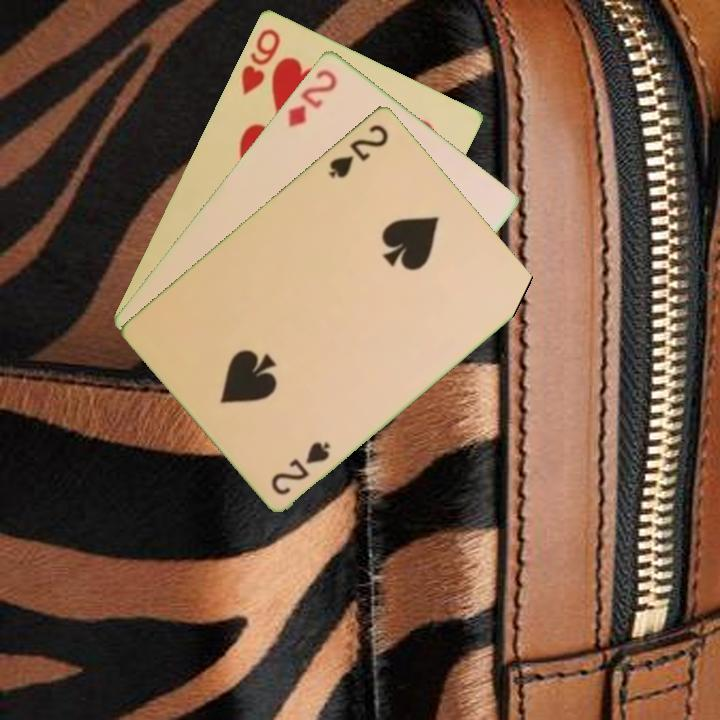2d: (284, 65, 340, 130)
2s: (324, 120, 392, 181), (267, 437, 334, 498)
9h: (237, 24, 283, 98)
